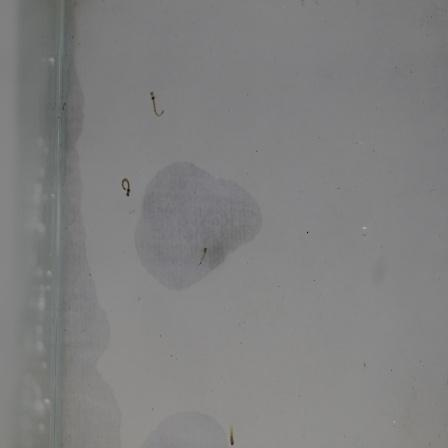Jentik-Nyamuk: (147, 90, 170, 120), (194, 239, 212, 271), (114, 173, 135, 199)
